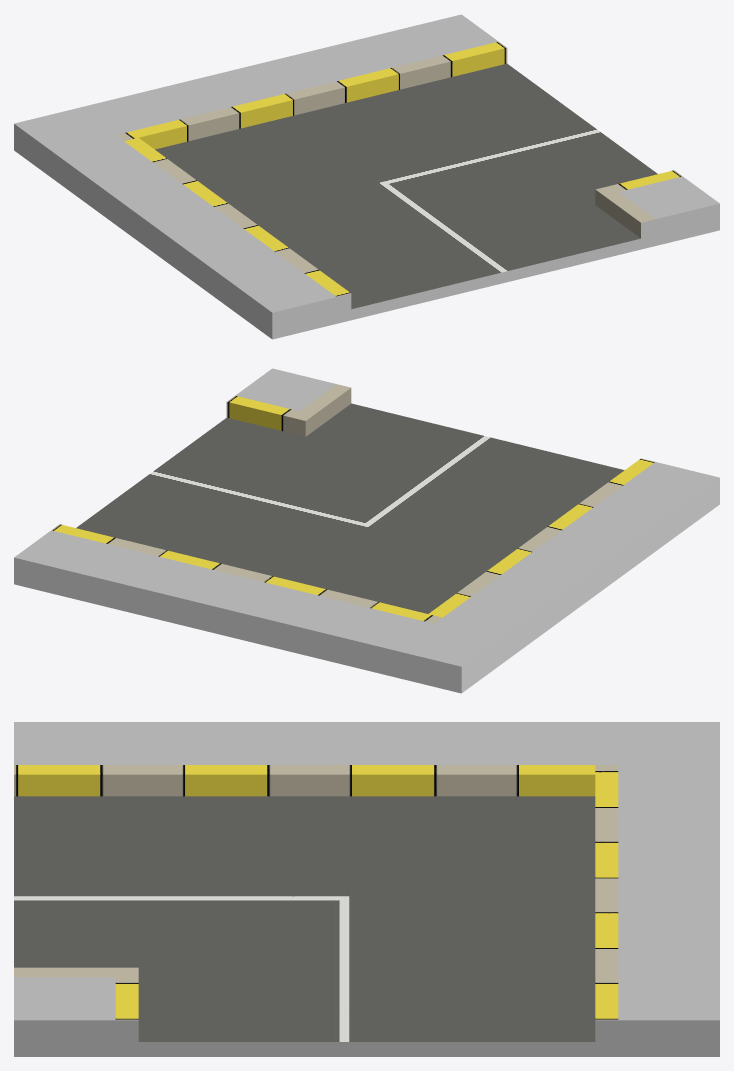
The model's file is sag-donus.dae.
3 views of the same model, one above another, from view 1: azimuth 30°, elevation 25°; view 2: azimuth 150°, elevation 25°; view 3: azimuth 270°, elevation 25° (orthographic). The views are drawn at different scales.
Visible parts, largest first — view 1: group_1 (×6), group_0; view 2: group_1 (×5); view 3: group_1 (×4).
Part boxes in pixels (box(x1,y1,x2,y2)): group_1 (×6): box(14, 14, 719, 339); group_0: box(348, 283, 480, 320); group_1 (×5): box(14, 368, 719, 693); group_1 (×4): box(14, 722, 719, 1056).
Size of the model in its own units: 134 by 134 by 7.66.
Materials: 7 (4 with a texture image).
